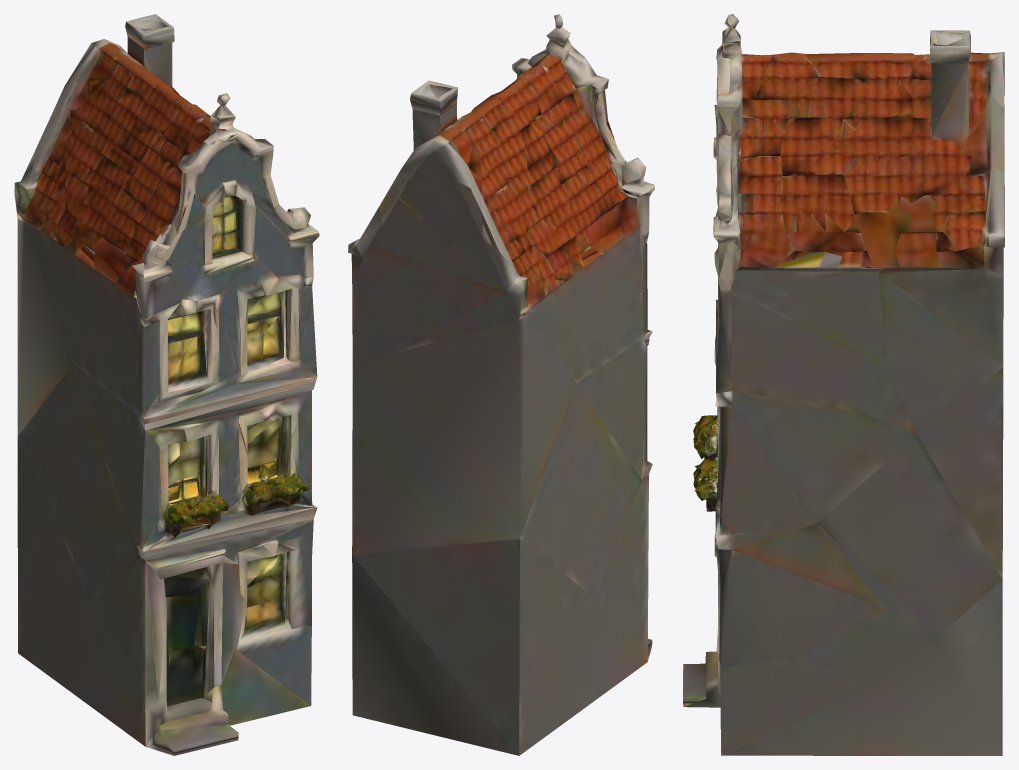
Rendered from getkong-haus5.glb.
3 renders of one model, left to right at view 1: azimuth 30°, elevation 25°; view 2: azimuth 150°, elevation 25°; view 3: azimuth 270°, elevation 25°, orthographic. The views are drawn at different scales.
Visible parts, largest first — view 1: output_unwrapped; view 2: output_unwrapped; view 3: output_unwrapped.
Part boxes in pixels (x1=…): output_unwrapped: x1=14, y1=14, x2=319, y2=755; output_unwrapped: x1=348, y1=14, x2=654, y2=755; output_unwrapped: x1=683, y1=14, x2=1004, y2=755.
Bounding box in the file's own units: 0.556 × 1.9 × 0.796.
Materials: 1 (1 with a texture image).
